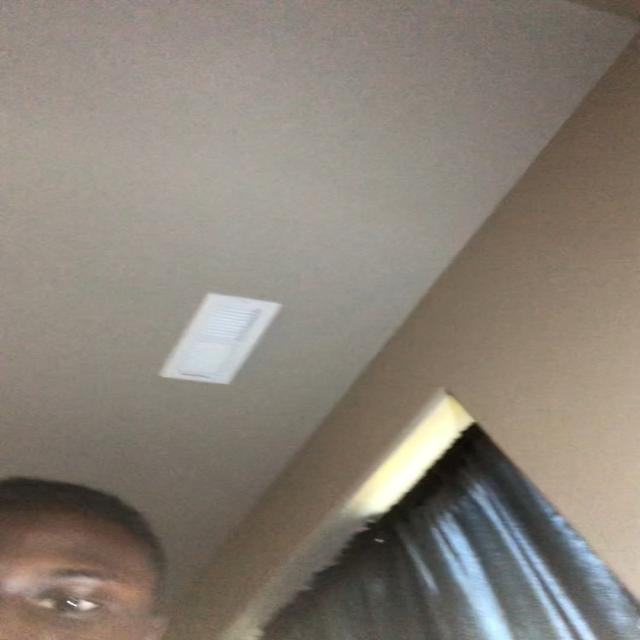face: (0, 493, 163, 640)
